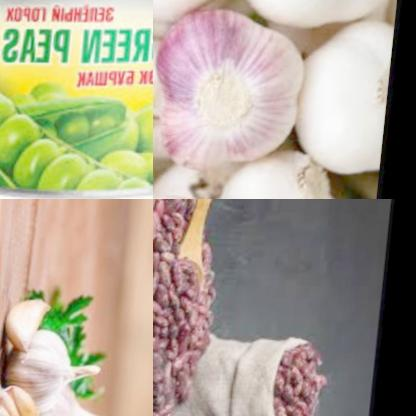fasol: (153, 199, 235, 416), (267, 336, 343, 416)
garlic: (153, 11, 312, 171), (286, 15, 399, 170), (0, 327, 110, 411), (219, 142, 360, 199), (153, 34, 203, 166), (0, 295, 54, 362), (39, 381, 120, 416), (153, 177, 235, 199), (0, 382, 51, 416)
peas: (0, 86, 153, 190)
